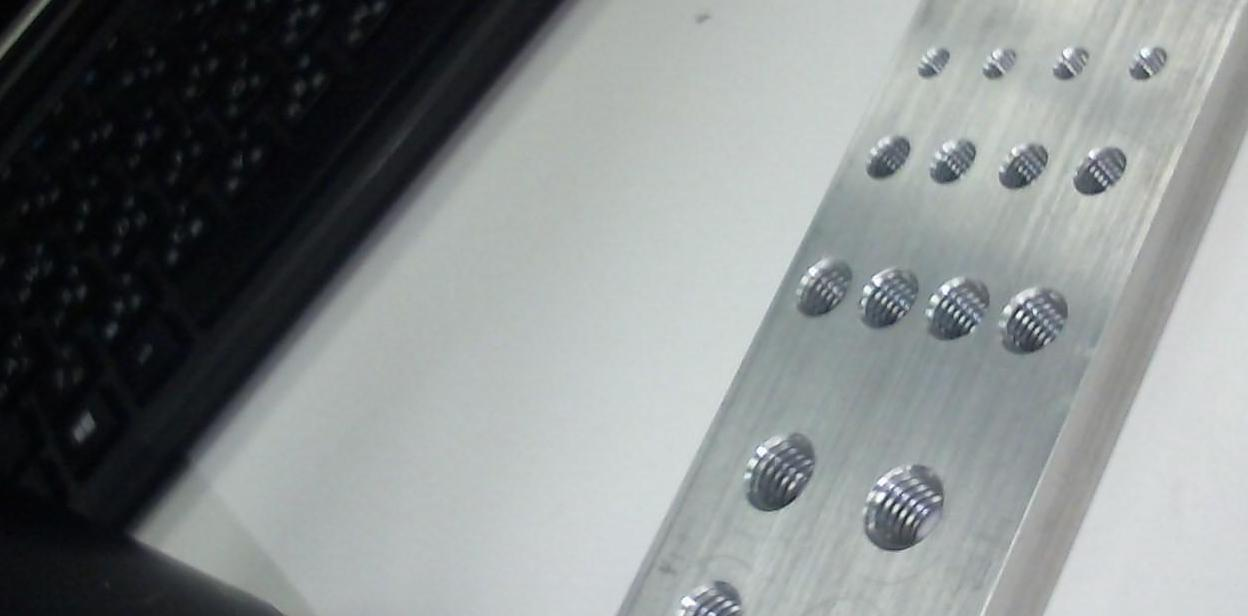hole: (855, 456, 950, 562), (742, 419, 825, 516), (922, 272, 990, 356), (1002, 285, 1068, 360), (795, 256, 857, 332), (858, 267, 920, 339), (1066, 144, 1128, 204), (660, 576, 749, 616), (999, 138, 1054, 194), (924, 134, 974, 188), (868, 131, 918, 184), (1128, 36, 1169, 96), (1052, 36, 1088, 84), (979, 42, 1017, 87), (912, 40, 948, 80)
